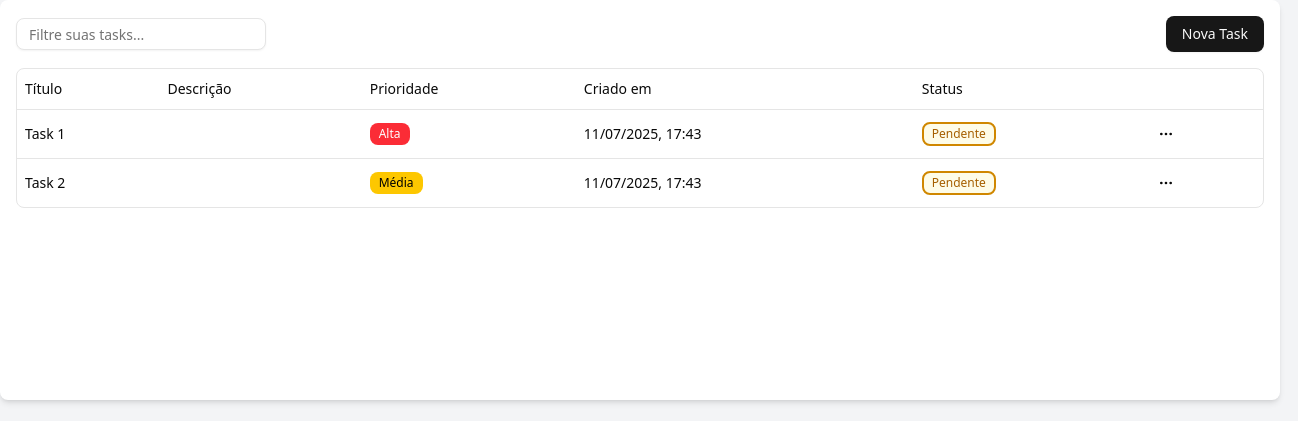
Test: TasksTable › permite limpar filtros
In the field with placeholder "Filtre suas tasks...": (141, 34) [16,18,266,50], type "Task 1"
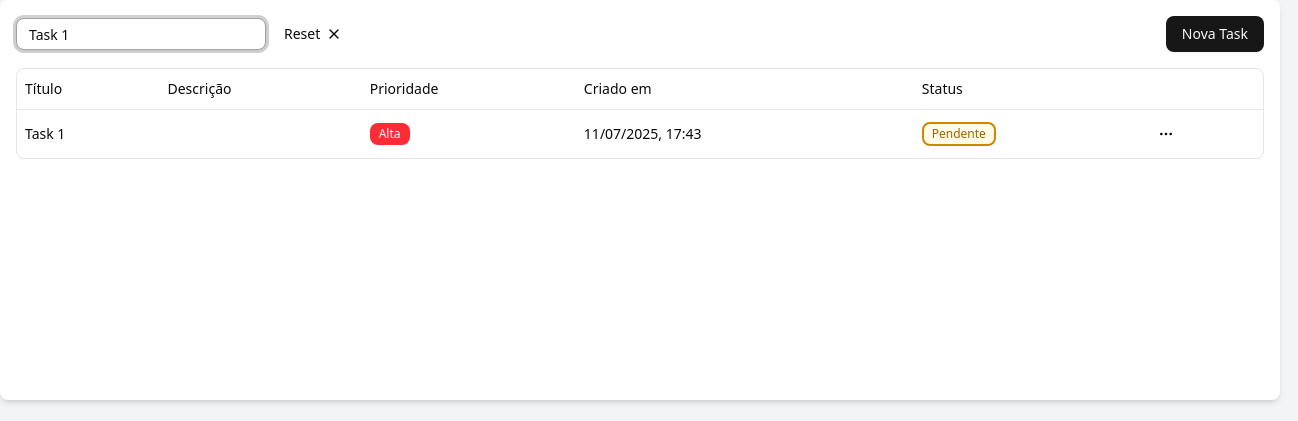
Expected: the button "Reset" is shown
Click the button "Reset": (313, 34) [274,18,352,50]
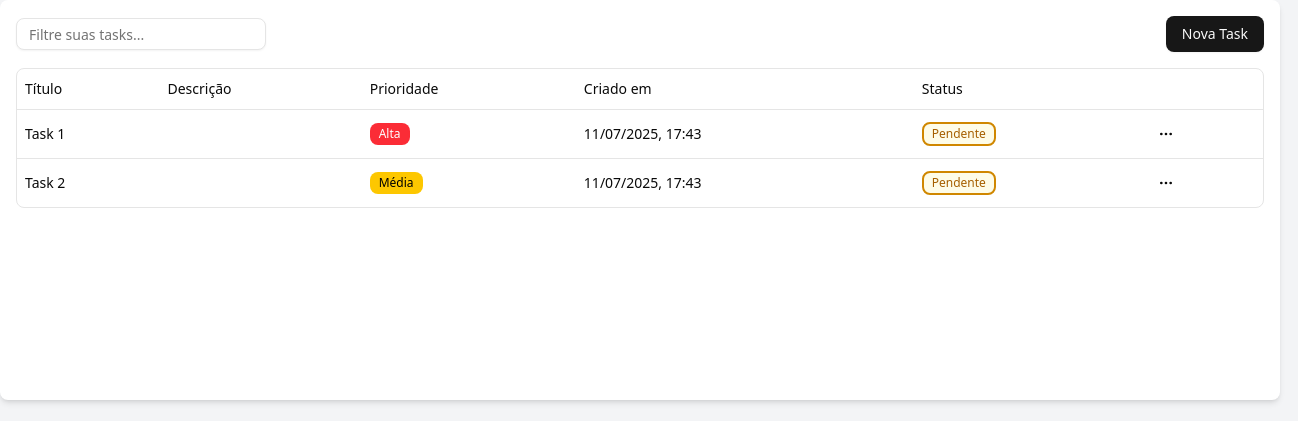
Expected: the text "Task 1" is shown, [17,109,160,158]
Expected: the text "Task 2" is shown, [17,158,160,206]
